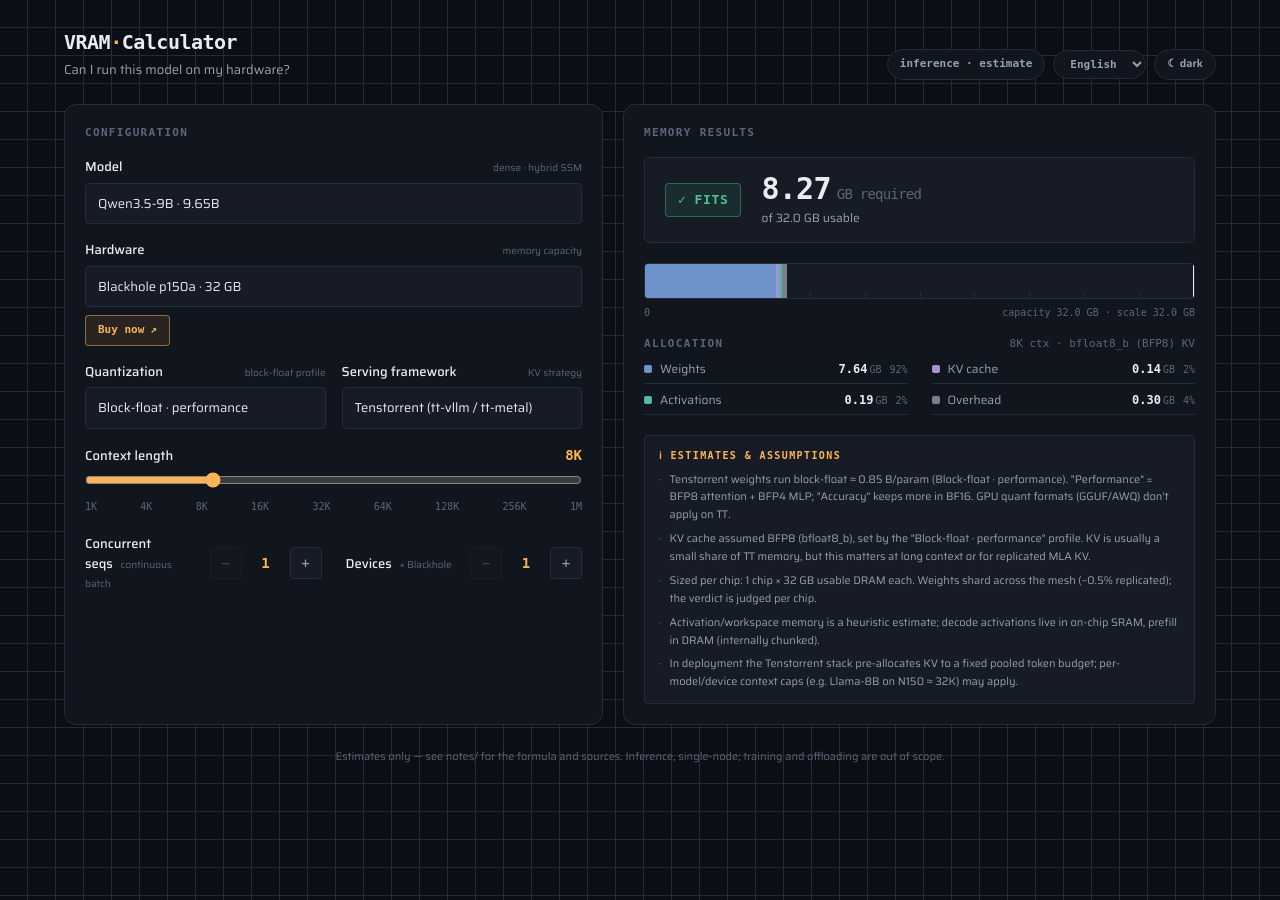
Test: App › switches UI language via the top-right dropdown
The width and height of the screenshot is (1280, 900).
Expected: the heading "Configuration" is shown, x1=85 y1=126 x2=188 y2=138
Step 1. Select "한국어" in the dropdown named "Language" → [1100, 64], box x1=1053 y1=50 x2=1146 y2=79
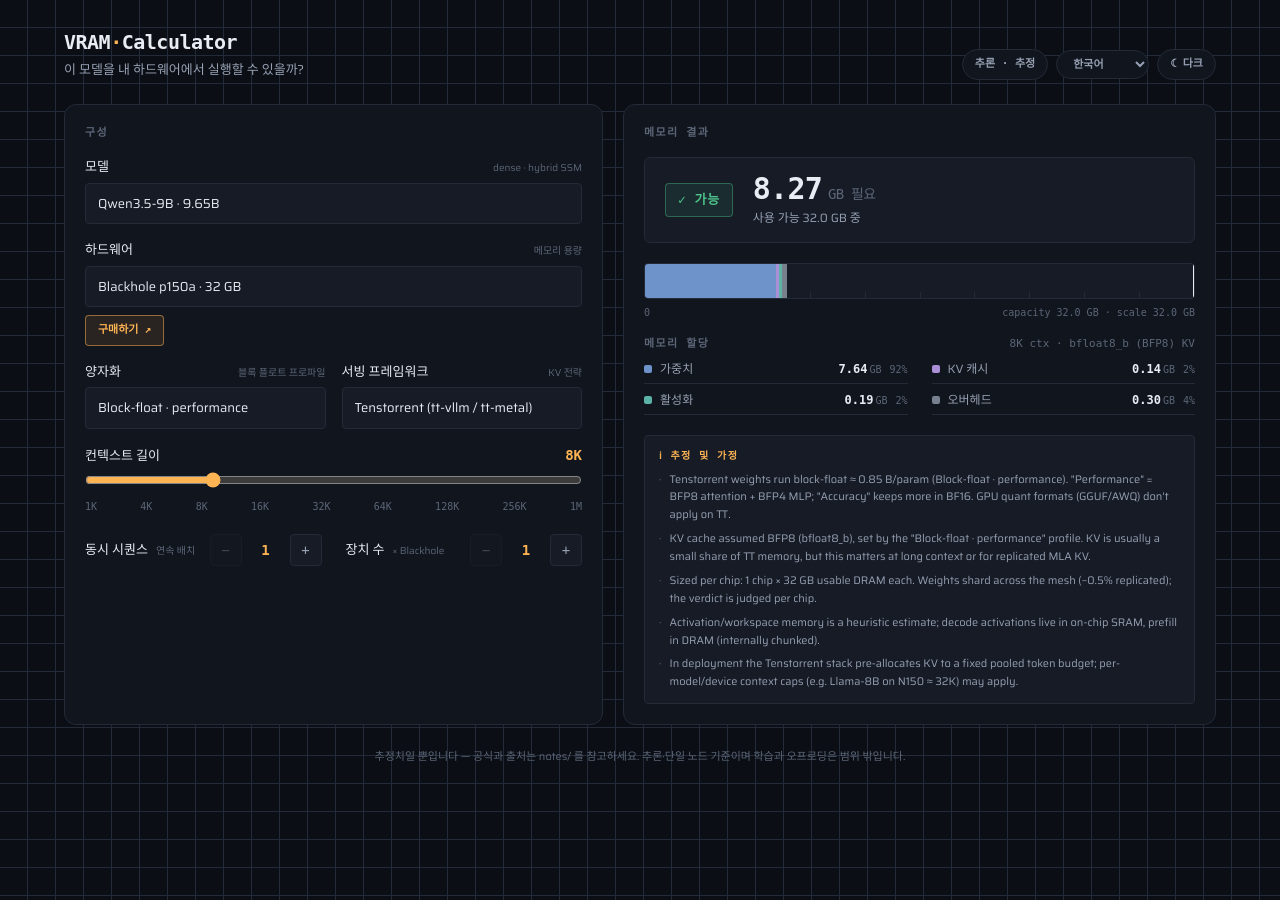
Expected: the heading "구성" is shown, x1=85 y1=126 x2=108 y2=138
Expected: the heading "Configuration" is gone
